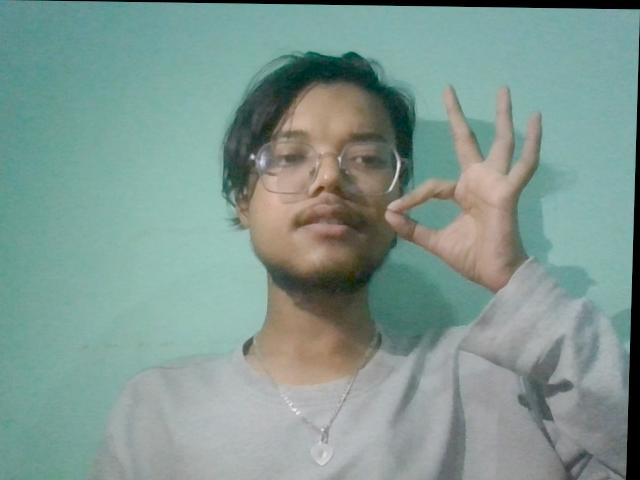Cat: (380, 74, 553, 317)
